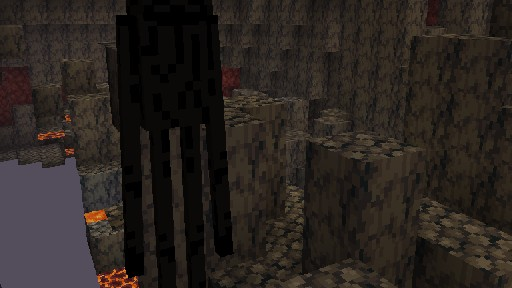enderman: (115, 0, 233, 288)
